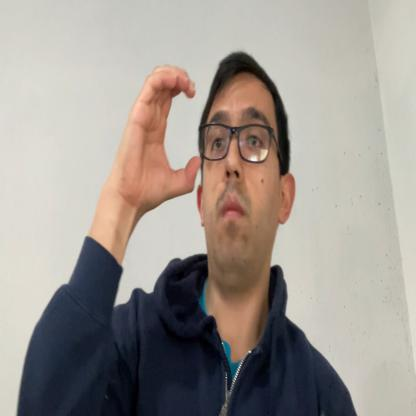C: (125, 64, 202, 206)
